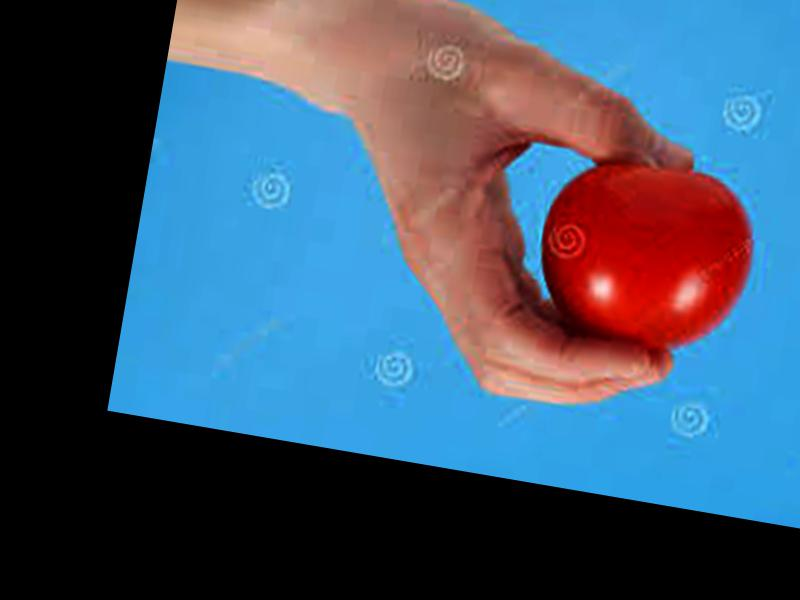Tomato: (529, 149, 763, 366)
